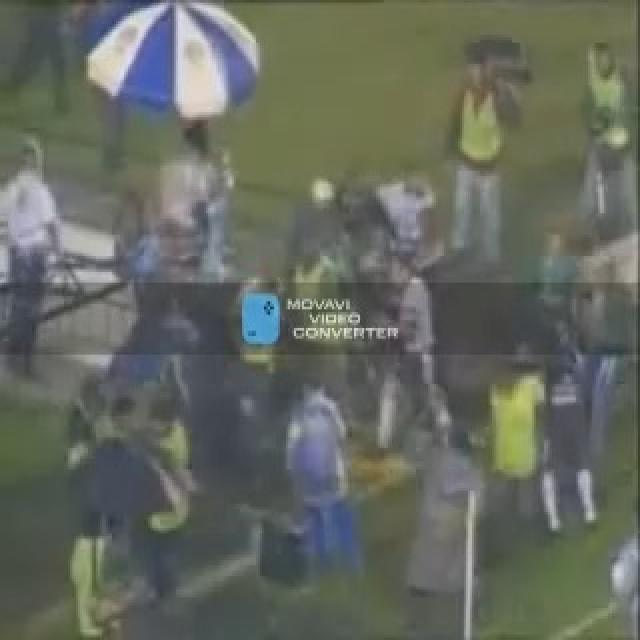non-voilence: (0, 0, 638, 637), (84, 0, 260, 120), (442, 35, 528, 264), (0, 133, 62, 376)
